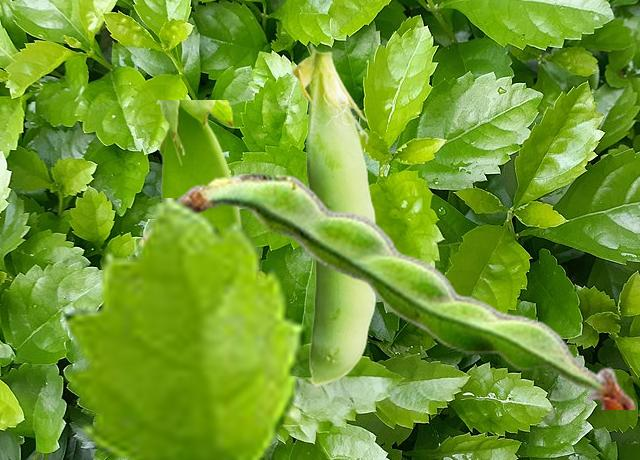pea: (139, 173, 636, 408), (291, 42, 375, 385), (155, 100, 240, 229)
